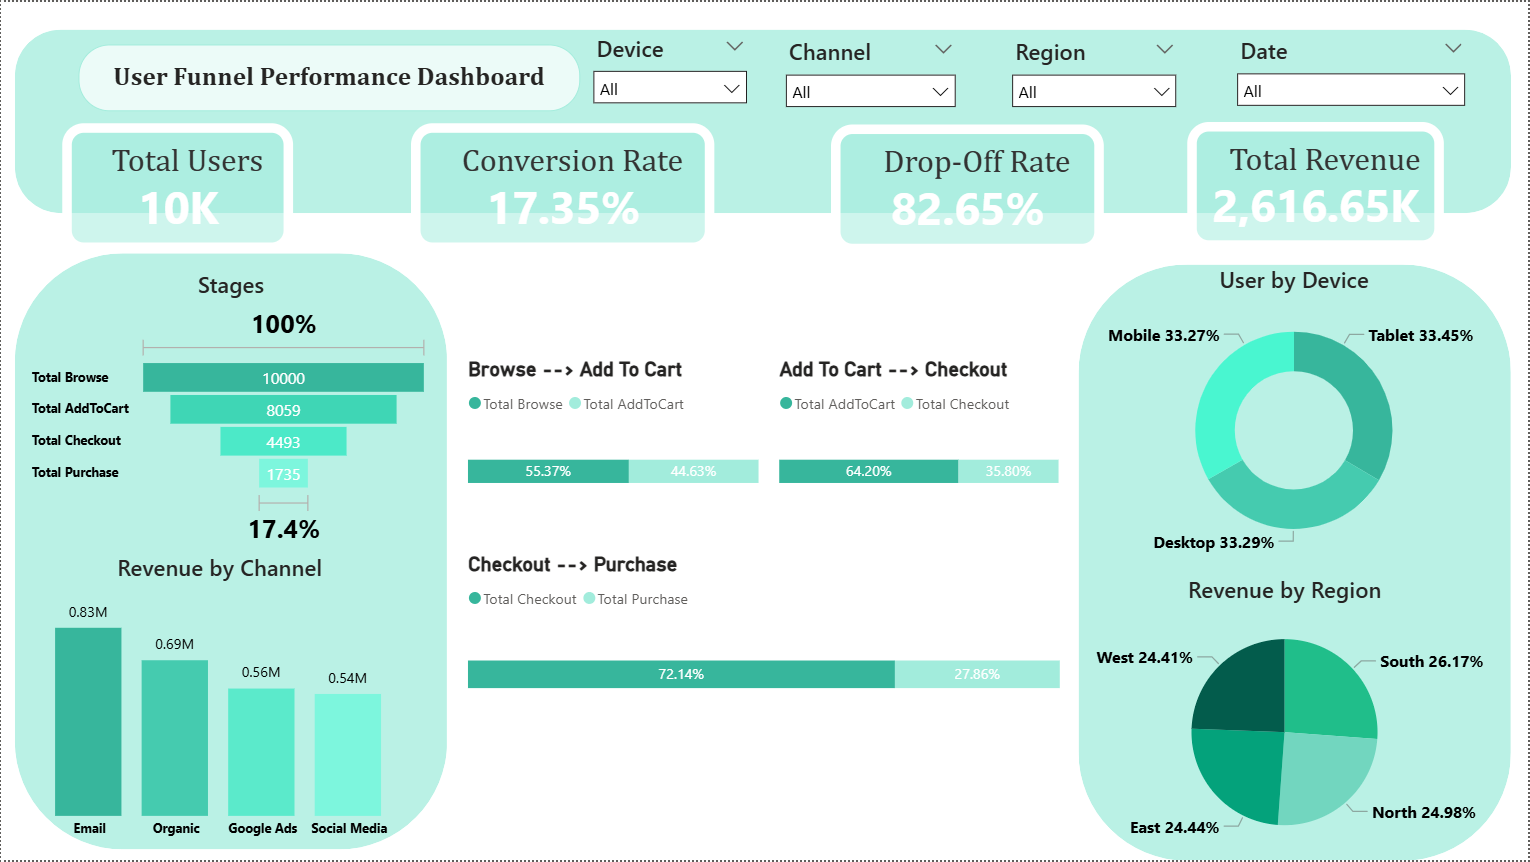

The page's visual inventory and layout, read from the dashboard file:
{"tool":"powerbi","page":{"name":"Home PageUser Funnel Performance Dashboard","canvas":[1280,720],"ordinal":0},"visuals":[{"type":"shape","box":[11.5,23.1,1254.9,154.1],"z":0},{"type":"textbox","box":[65.1,36,420.9,55.8],"z":1000},{"type":"card","title":"Total Users","fields":{"Values":["realistic_funnel_data.Total Count"]},"box":[51.4,101.7,193.9,108],"z":2000},{"type":"card","title":"Conversion Rate","fields":{"Values":["realistic_funnel_data.Convertion Rate"]},"box":[343.9,101.7,254.7,108],"z":3000},{"type":"card","title":"Drop-Off Rate","fields":{"Values":["realistic_funnel_data.Drop-off Rate"]},"box":[696.1,102.7,228.5,108],"z":4000},{"type":"card","title":"Total Revenue","fields":{"Values":["Sum(realistic_funnel_data.Revenue)"]},"box":[994.9,100.6,214.9,106.9],"z":5000},{"type":"slicer","fields":{"Values":["realistic_funnel_data.Device"]},"box":[486.4,21,148.9,71.3],"z":6000},{"type":"slicer","fields":{"Values":["realistic_funnel_data.Channel"]},"box":[647.9,24.1,162.5,68.1],"z":7000},{"type":"slicer","fields":{"Values":["realistic_funnel_data.Region"]},"box":[837.6,24.1,158.3,68.1],"z":8000},{"type":"slicer","fields":{"Values":["realistic_funnel_data.Date","realistic_funnel_data.Date.Variation.Date Hierarchy.Day"]},"box":[1026.3,23.1,211.8,68.1],"z":9000},{"type":"shape","box":[11.5,210.7,362.7,500.1],"z":10000},{"type":"funnel","title":"Stages","fields":{"Y":["realistic_funnel_data.Total Browse","realistic_funnel_data.Total AddToCart","realistic_funnel_data.Total Checkout","realistic_funnel_data.Total Purchase"]},"box":[21,224.3,343.9,236.9],"z":11000},{"type":"columnChart","title":"Revenue by Channel","fields":{"Category":["realistic_funnel_data.Channel"],"Y":["Sum(realistic_funnel_data.Revenue)"]},"box":[11.5,461.3,343.9,249.5],"z":12000},{"type":"hundredPercentStackedBarChart","title":"Browse --> Add To Cart","fields":{"Y":["realistic_funnel_data.Total Browse","realistic_funnel_data.Total AddToCart"]},"box":[386.8,297.7,253.7,138.4],"z":13000},{"type":"hundredPercentStackedBarChart","title":"Add To Cart --> Checkout","fields":{"Y":["realistic_funnel_data.Total AddToCart","realistic_funnel_data.Total Checkout"]},"box":[647.9,297.7,244.3,138.4],"z":14000},{"type":"hundredPercentStackedBarChart","title":"Checkout --> Purchase","fields":{"Y":["realistic_funnel_data.Total Checkout","realistic_funnel_data.Total Purchase"]},"box":[386.8,461.3,506.4,152],"z":15000},{"type":"shape","box":[903.7,220.2,362.7,500.1],"z":16000},{"type":"donutChart","title":"User by Device","fields":{"Category":["realistic_funnel_data.Device"],"Y":["realistic_funnel_data.Total Count"]},"box":[896.3,220.2,376.4,253.7],"z":17000},{"type":"pieChart","title":"Revenue by Region","fields":{"Category":["realistic_funnel_data.Region"],"Y":["Sum(realistic_funnel_data.Revenue)"]},"box":[892.1,480.1,369,240.1],"z":18000}]}

Visuals, with their boxes in screenshot pixels (x1, y1, x2, y2), scaled from the page's 1280x720 canvas onto the 1530x862 screenshot:
shape: {"left": 14, "top": 28, "right": 1514, "bottom": 212}
textbox: {"left": 78, "top": 43, "right": 581, "bottom": 110}
"Total Users" card: {"left": 61, "top": 122, "right": 293, "bottom": 251}
"Conversion Rate" card: {"left": 411, "top": 122, "right": 716, "bottom": 251}
"Drop-Off Rate" card: {"left": 832, "top": 123, "right": 1105, "bottom": 252}
"Total Revenue" card: {"left": 1189, "top": 120, "right": 1446, "bottom": 248}
slicer - realistic_funnel_data.Device: {"left": 581, "top": 25, "right": 759, "bottom": 111}
slicer - realistic_funnel_data.Channel: {"left": 774, "top": 29, "right": 969, "bottom": 110}
slicer - realistic_funnel_data.Region: {"left": 1001, "top": 29, "right": 1190, "bottom": 110}
slicer - realistic_funnel_data.Date x realistic_funnel_data.Date.Variation.Date Hierarchy.Day: {"left": 1227, "top": 28, "right": 1480, "bottom": 109}
shape: {"left": 14, "top": 252, "right": 447, "bottom": 851}
"Stages" funnel: {"left": 25, "top": 269, "right": 436, "bottom": 552}
"Revenue by Channel" columnChart: {"left": 14, "top": 552, "right": 425, "bottom": 851}
"Browse --> Add To Cart" hundredPercentStackedBarChart: {"left": 462, "top": 356, "right": 766, "bottom": 522}
"Add To Cart --> Checkout" hundredPercentStackedBarChart: {"left": 774, "top": 356, "right": 1066, "bottom": 522}
"Checkout --> Purchase" hundredPercentStackedBarChart: {"left": 462, "top": 552, "right": 1068, "bottom": 734}
shape: {"left": 1080, "top": 264, "right": 1514, "bottom": 861}
"User by Device" donutChart: {"left": 1071, "top": 264, "right": 1521, "bottom": 567}
"Revenue by Region" pieChart: {"left": 1066, "top": 575, "right": 1507, "bottom": 861}
